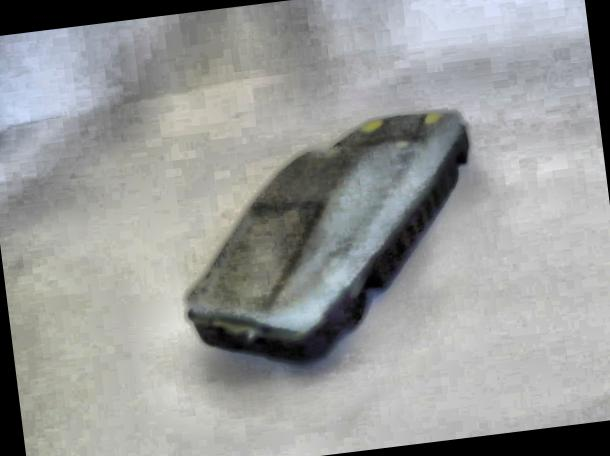normal_car: (158, 104, 494, 381)
